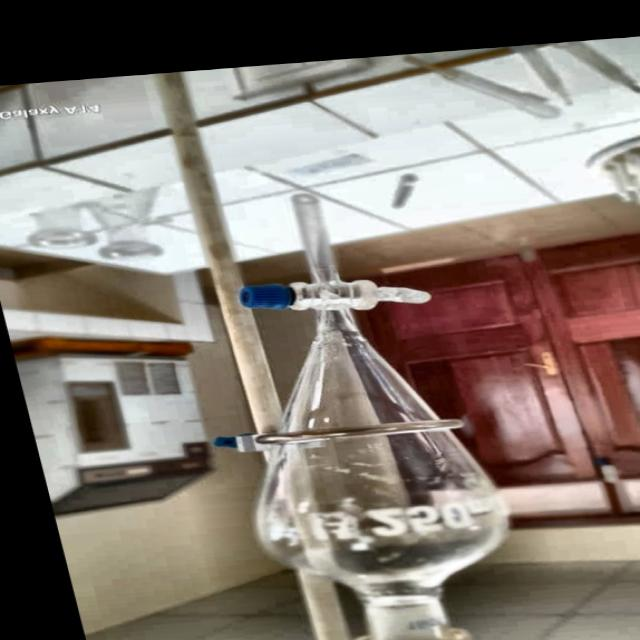Separating Funnel: (171, 182, 545, 640)
